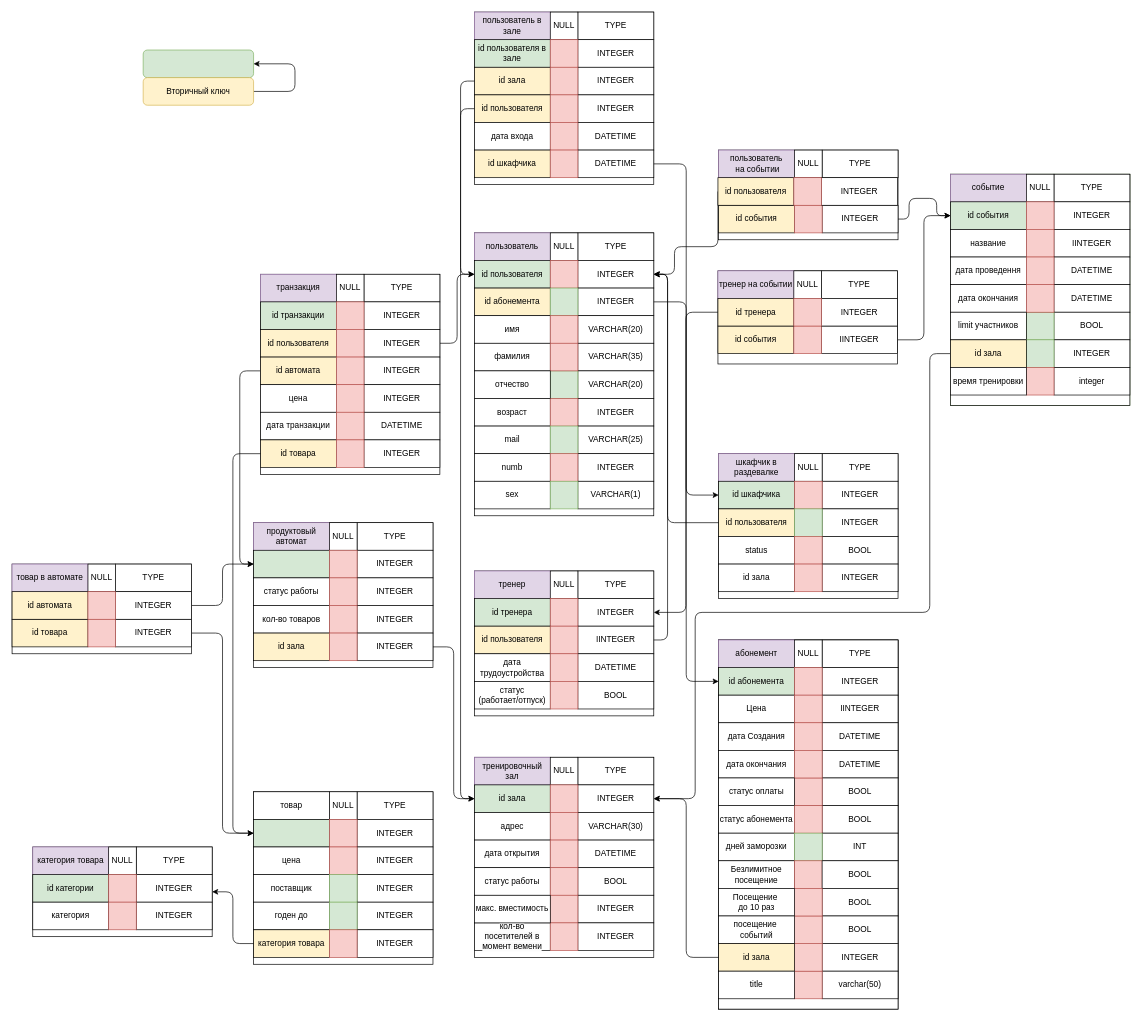
This 1142x1021 diagram has some shape labels left out. The box of each missing label's shape, as (x1, y1, x2, y2) in pixels:
id атомата: (253, 550, 329, 578)
id тоара: (253, 819, 329, 847)
Первичный ключ: (142, 49, 254, 78)
